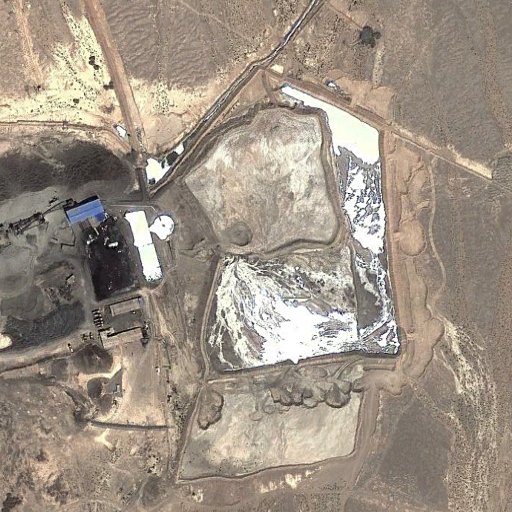tp: (175, 68, 405, 371)
